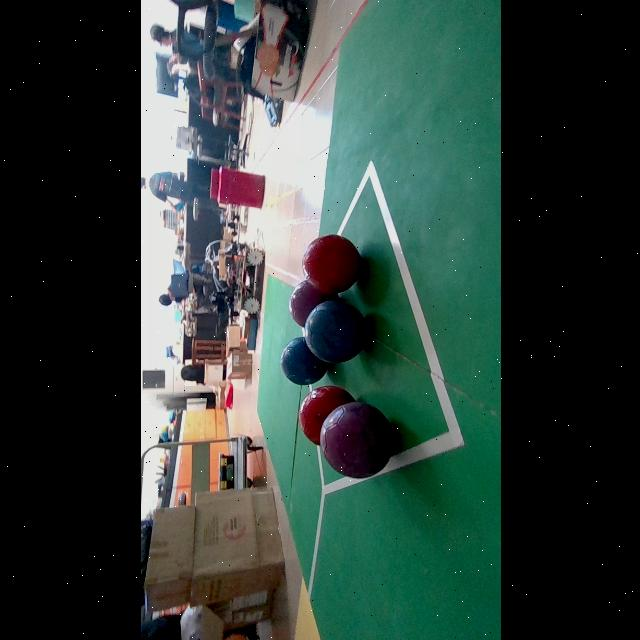B: (304, 301, 366, 363), (279, 337, 328, 386)
P: (319, 401, 392, 477), (288, 281, 338, 327)
R: (301, 234, 361, 294), (297, 386, 354, 446)
